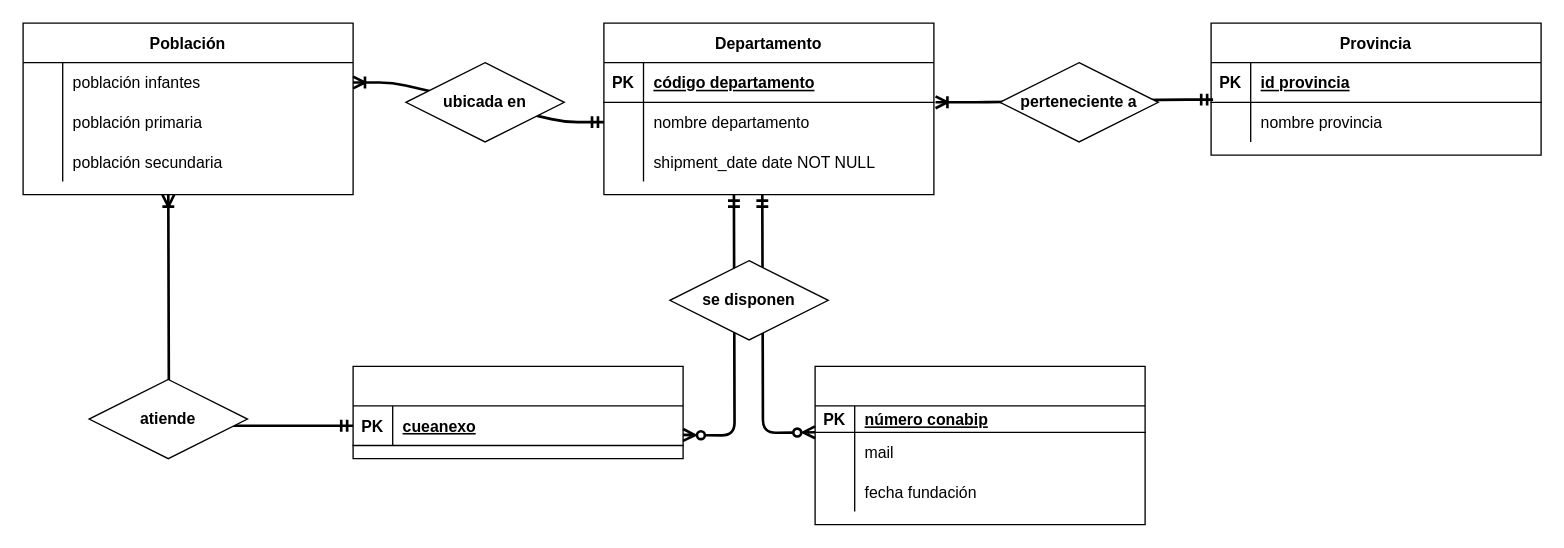
The diagram is 1564 pixels wide and 548 high, and some of its shapes have lost their labels. Here are the shapes that lost their labels. From the top down, the box of each, then its label:
(352, 365, 683, 459): EE
(814, 365, 1145, 525): BP
